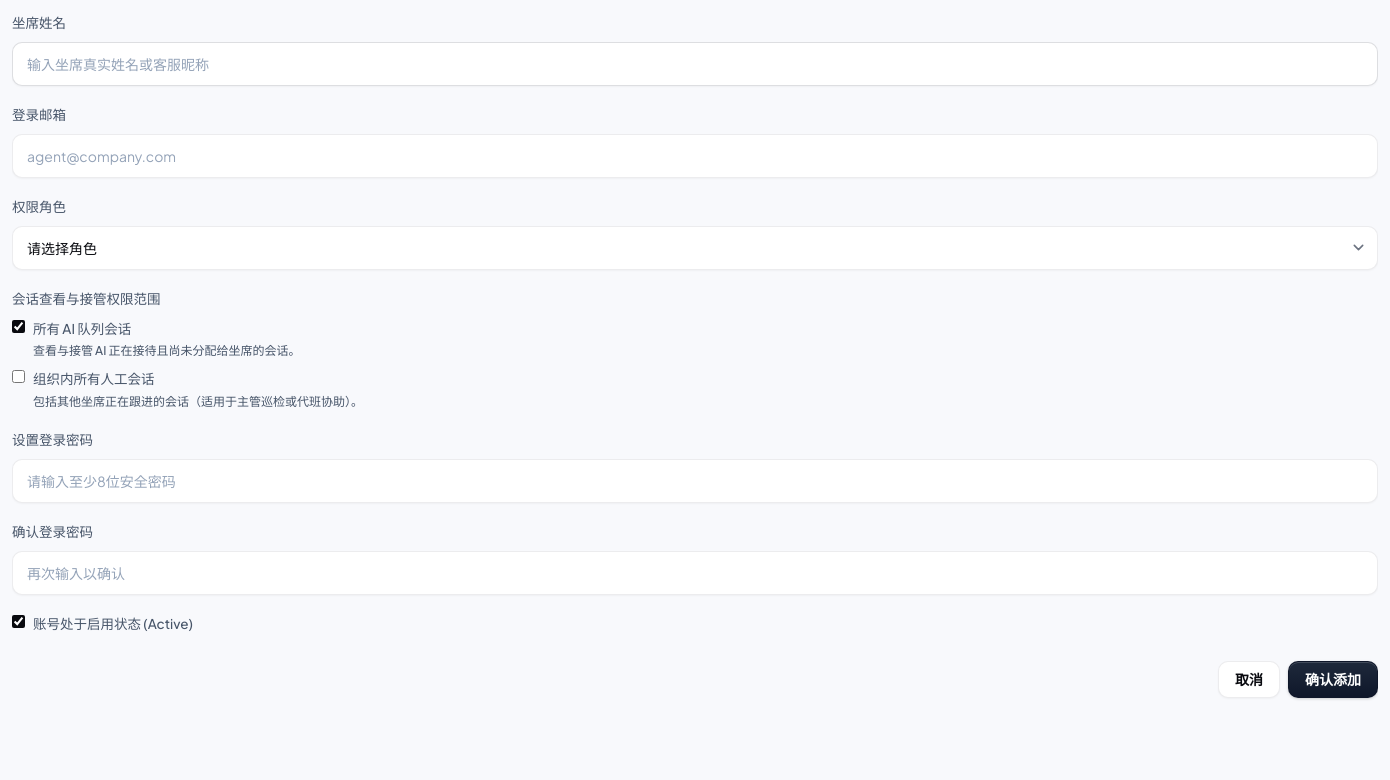
Scenario: UserForm – chat scope toggles › unticks the AI queue for a role that does not grant it
The width and height of the screenshot is (1390, 780).
Select "Assigned only" in the dropdown with id "role" at (695, 248), box [12,226,1378,270]
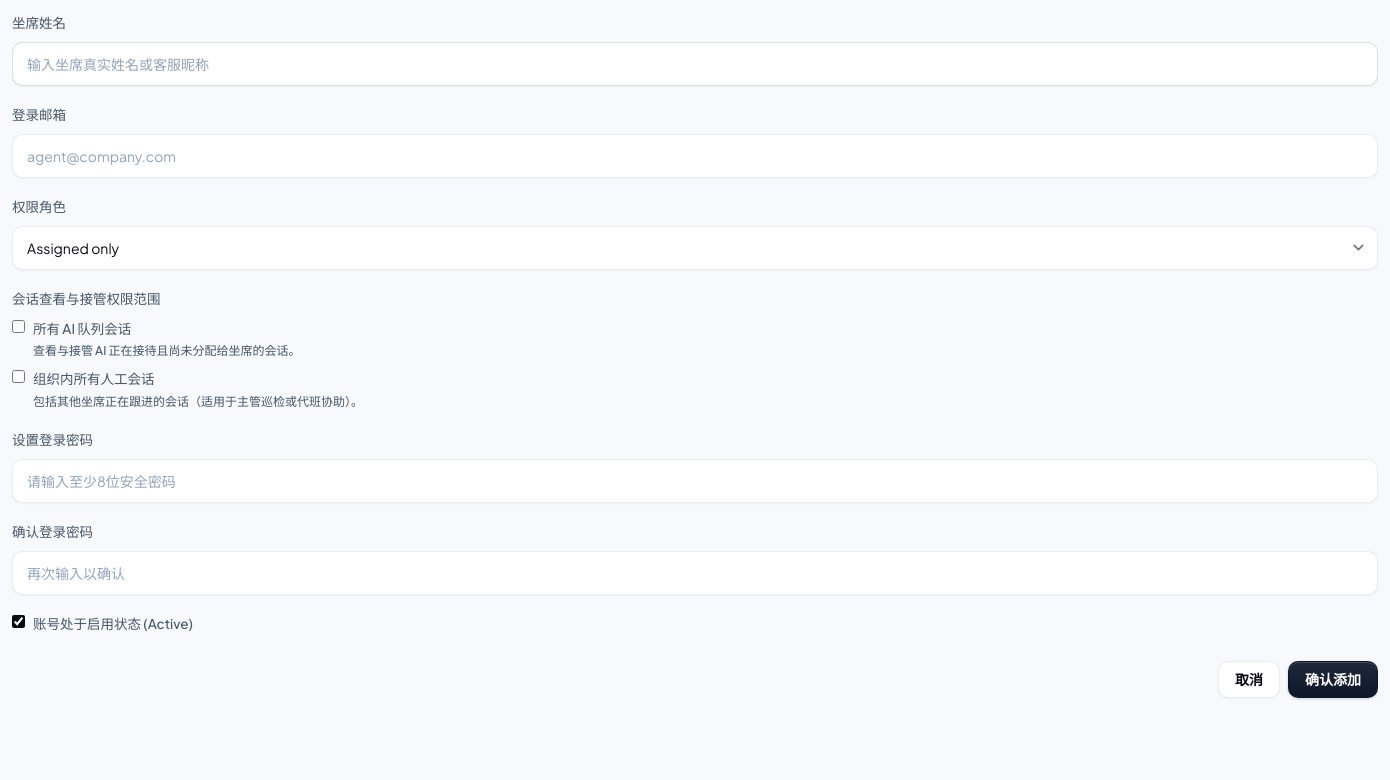
Expected: the checkbox labelled "所有 AI 队列会话 查看与接管 AI 正在接待且尚未分配给坐席的会话。" is not checked, [12,320,25,332]
